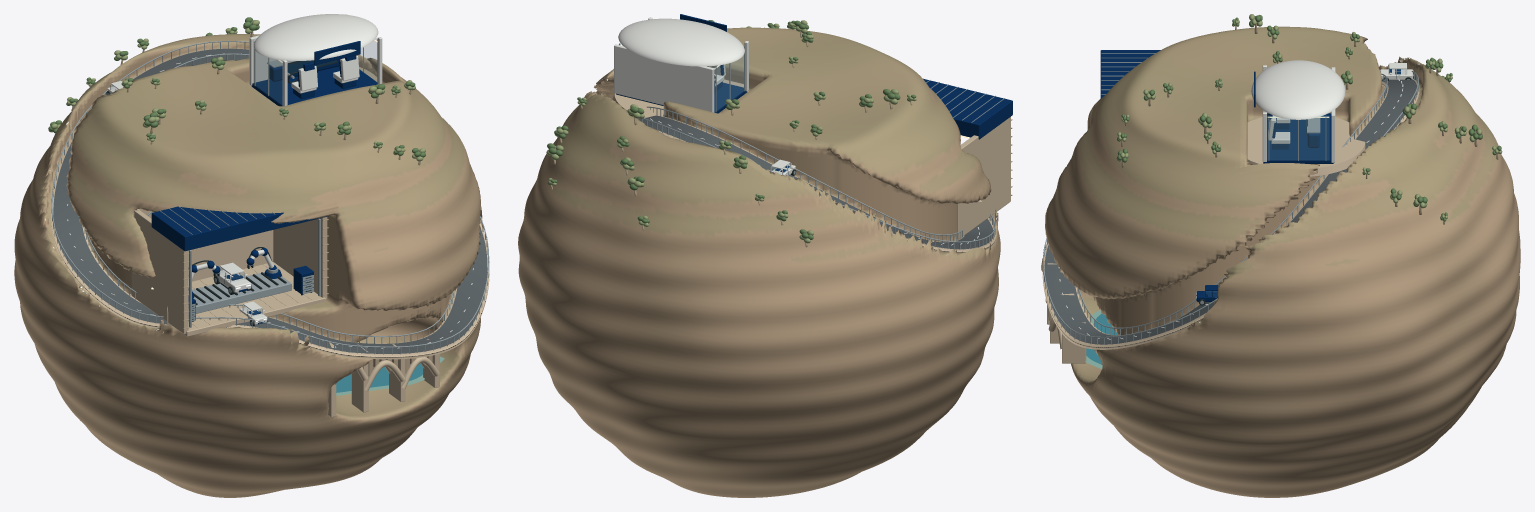
Rendered from hyundai-refined-v1.glb.
3 views of the same model, side by side, from view 1: azimuth 30°, elevation 25°; view 2: azimuth 150°, elevation 25°; view 3: azimuth 270°, elevation 25° (orthographic).
Parts seen in each view (by area): view 1: motor_layered_terrain, motor_cut_stone, motor_asphalt, motor_navy_002C5F, motor_white_enamel, motor_brushed_steel, motor_glass, motor_coastal_leaf, motor_coastal_leaf_light, motor_warm_limestone, motor_rubber, motor_bay_water; view 2: motor_layered_terrain, motor_white_enamel, motor_cut_stone, motor_navy_002C5F, motor_asphalt, motor_brushed_steel, motor_coastal_leaf, motor_coastal_leaf_light, motor_glass; view 3: motor_layered_terrain, motor_white_enamel, motor_asphalt, motor_cut_stone, motor_navy_002C5F, motor_brushed_steel, motor_glass, motor_coastal_leaf, motor_coastal_leaf_light.
Part boxes in pixels (x1=…): motor_layered_terrain: x1=14, y1=34, x2=482, y2=497; motor_cut_stone: x1=51, y1=48, x2=489, y2=417; motor_asphalt: x1=53, y1=48, x2=487, y2=353; motor_navy_002C5F: x1=151, y1=41, x2=377, y2=319; motor_white_enamel: x1=67, y1=14, x2=473, y2=348; motor_brushed_steel: x1=51, y1=39, x2=489, y2=354; motor_glass: x1=220, y1=38, x2=376, y2=281; motor_coastal_leaf: x1=48, y1=17, x2=425, y2=157; motor_coastal_leaf_light: x1=48, y1=20, x2=425, y2=161; motor_warm_limestone: x1=55, y1=20, x2=432, y2=375; motor_rubber: x1=188, y1=60, x2=337, y2=321; motor_bay_water: x1=336, y1=363, x2=422, y2=392; motor_layered_terrain: x1=518, y1=27, x2=1000, y2=497; motor_white_enamel: x1=614, y1=17, x2=979, y2=245; motor_cut_stone: x1=612, y1=79, x2=1010, y2=253; motor_navy_002C5F: x1=616, y1=14, x2=1012, y2=139; motor_asphalt: x1=638, y1=115, x2=993, y2=249; motor_brushed_steel: x1=619, y1=43, x2=1004, y2=249; motor_coastal_leaf: x1=547, y1=20, x2=916, y2=239; motor_coastal_leaf_light: x1=546, y1=20, x2=916, y2=243; motor_glass: x1=618, y1=43, x2=743, y2=111; motor_layered_terrain: x1=1041, y1=26, x2=1520, y2=497; motor_white_enamel: x1=1058, y1=60, x2=1403, y2=339; motor_asphalt: x1=1044, y1=79, x2=1416, y2=344; motor_cut_stone: x1=1042, y1=79, x2=1419, y2=363; motor_navy_002C5F: x1=1100, y1=50, x2=1333, y2=163; motor_brushed_steel: x1=1043, y1=53, x2=1418, y2=344; motor_glass: x1=1267, y1=116, x2=1329, y2=160; motor_coastal_leaf: x1=1117, y1=15, x2=1501, y2=221; motor_coastal_leaf_light: x1=1116, y1=14, x2=1502, y2=220.
Bounding box in the file's own units: 18.78 × 18.55 × 18.7.
